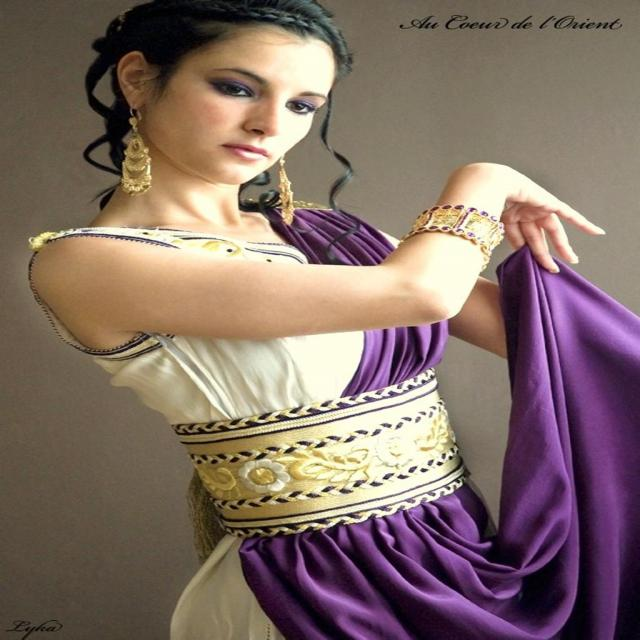nomask: (162, 30, 322, 172)
